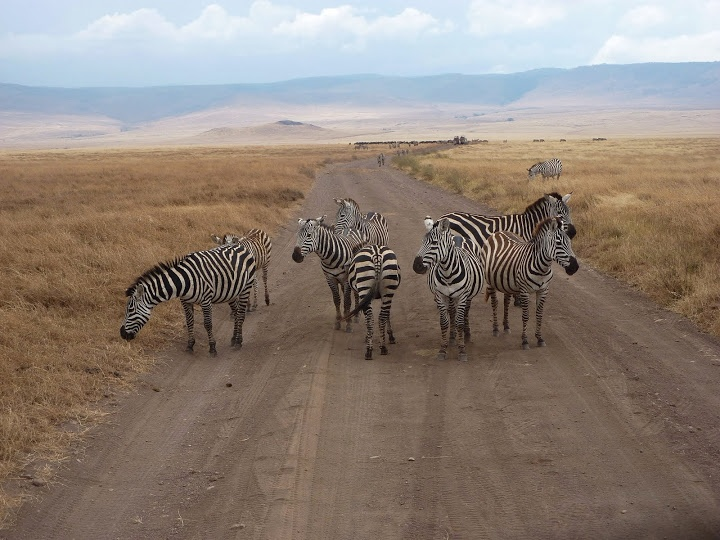zebra: (443, 195, 577, 321), (119, 235, 252, 353), (483, 221, 578, 343), (295, 212, 384, 326), (416, 214, 485, 350), (340, 229, 406, 355)
